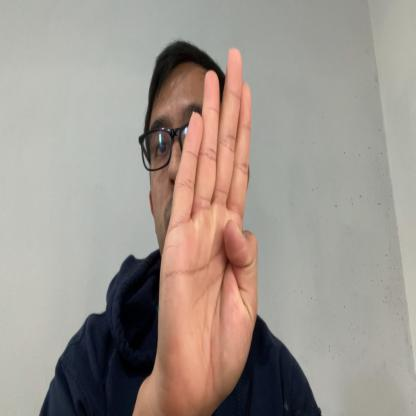B: (158, 45, 258, 408)
